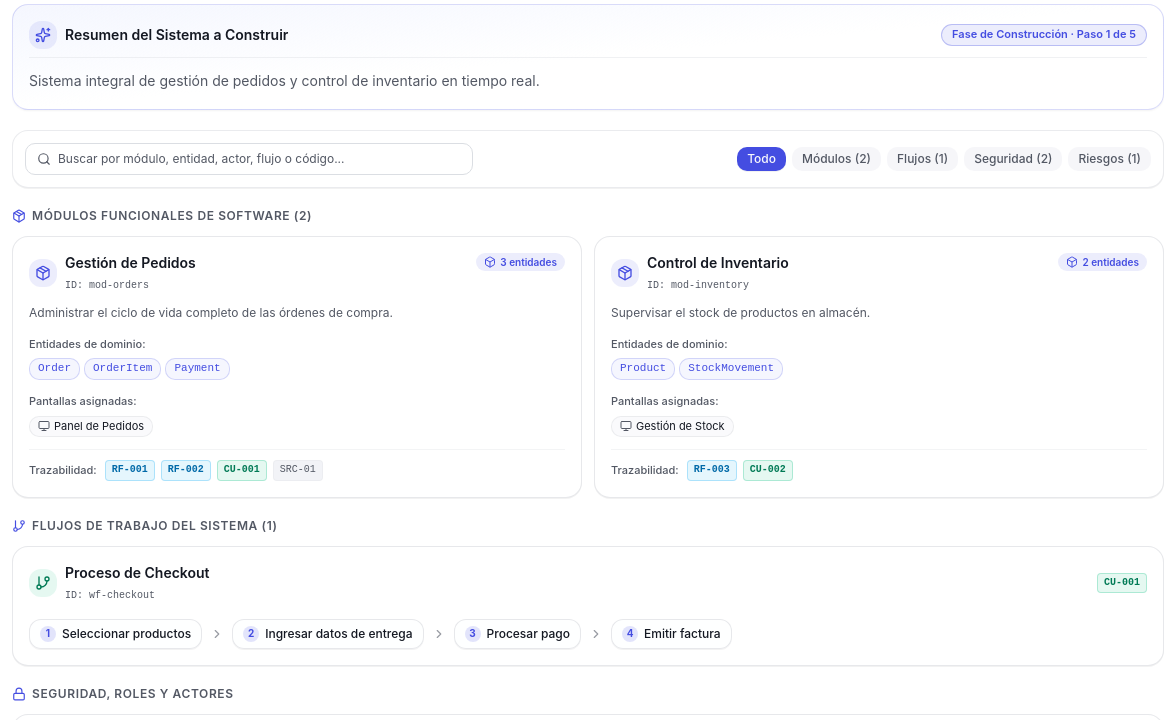
it: GenerationPlanDetail › filters by category tabs
This screenshot has width=1164, height=720.
// Click on Workflows tab
Click the button "Flujos (1)": (923, 159) top-left (887, 147), bottom-right (958, 171)
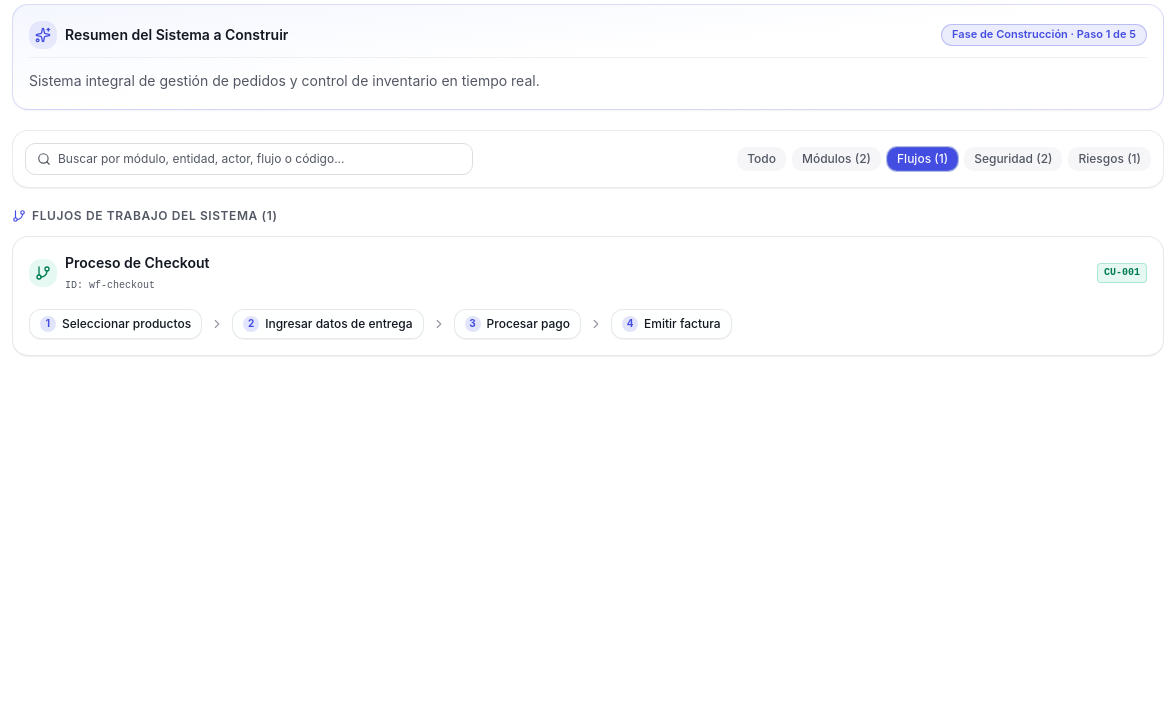
Check: the heading "Proceso de Checkout" is shown, box top-left (65, 253), bottom-right (210, 273)
Check: the text "Stripe API" is not shown
// Click on Risks tab
Click the button "Riesgos (1)": (1110, 159) top-left (1068, 147), bottom-right (1151, 171)
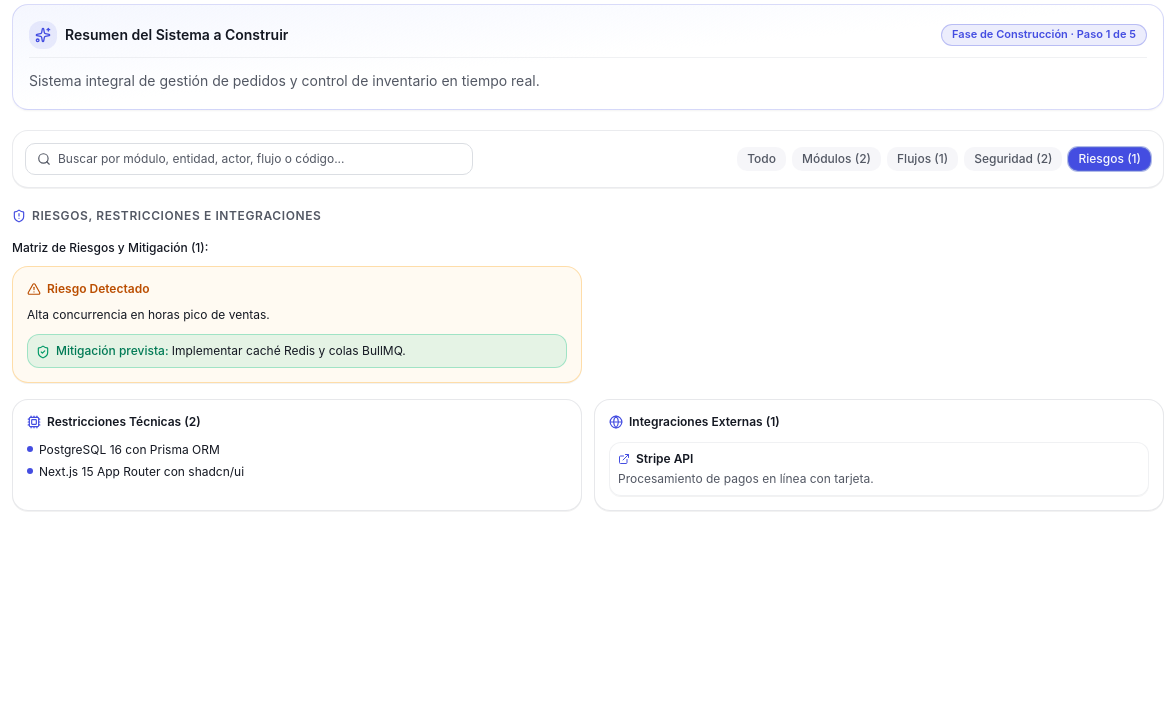
Check: the text "Alta concurrencia en horas pico de ventas." is shown, box top-left (27, 307), bottom-right (270, 322)
Check: the heading "Proceso de Checkout" is gone
